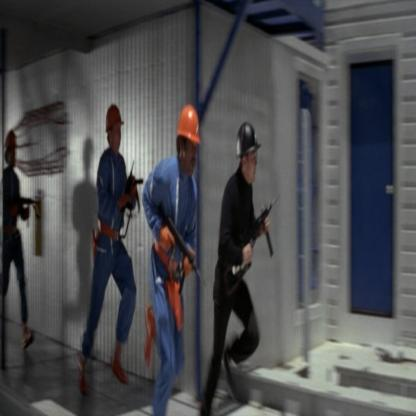gun: (163, 215, 204, 282), (249, 194, 283, 273)
